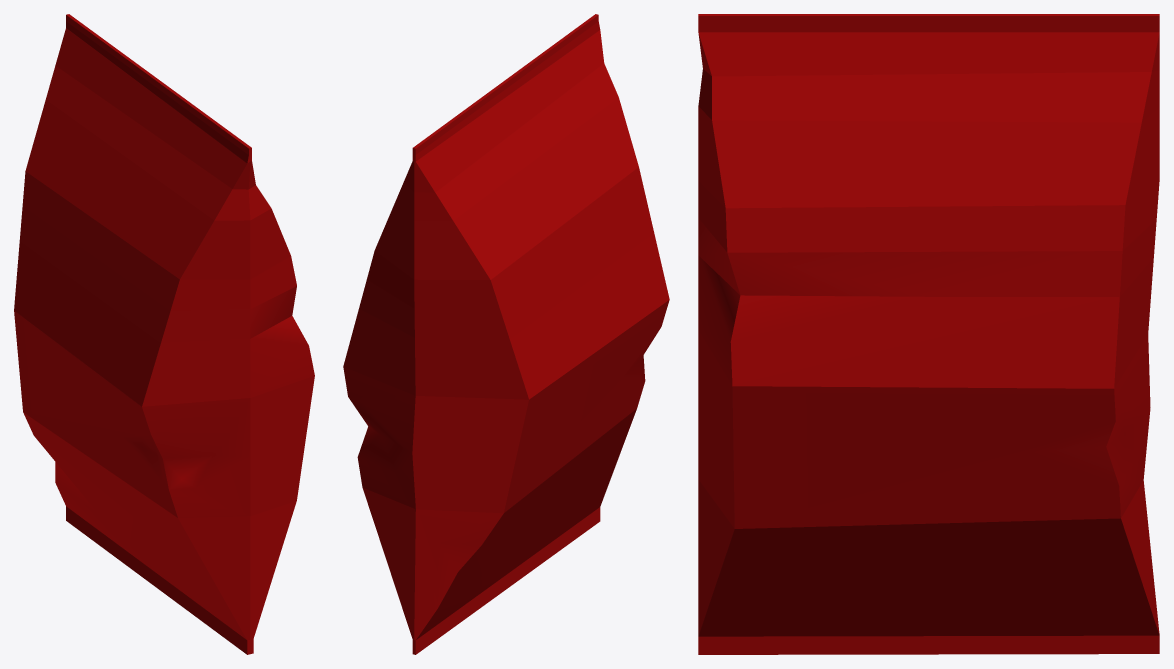
File: RedWrapper.fbx
3 views of the same model, side by side, from view 1: azimuth 30°, elevation 25°; view 2: azimuth 150°, elevation 25°; view 3: azimuth 270°, elevation 25° (orthographic). The views are drawn at different scales.
Parts seen in each view (by area): view 1: Junkfood2; view 2: Junkfood2; view 3: Junkfood2.
Part boxes in pixels (x1=…): Junkfood2: x1=14, y1=14, x2=314, y2=654; Junkfood2: x1=343, y1=14, x2=669, y2=654; Junkfood2: x1=698, y1=14, x2=1159, y2=654.
Bounding box in the file's own units: 0.8384 × 2.26 × 1.48.
